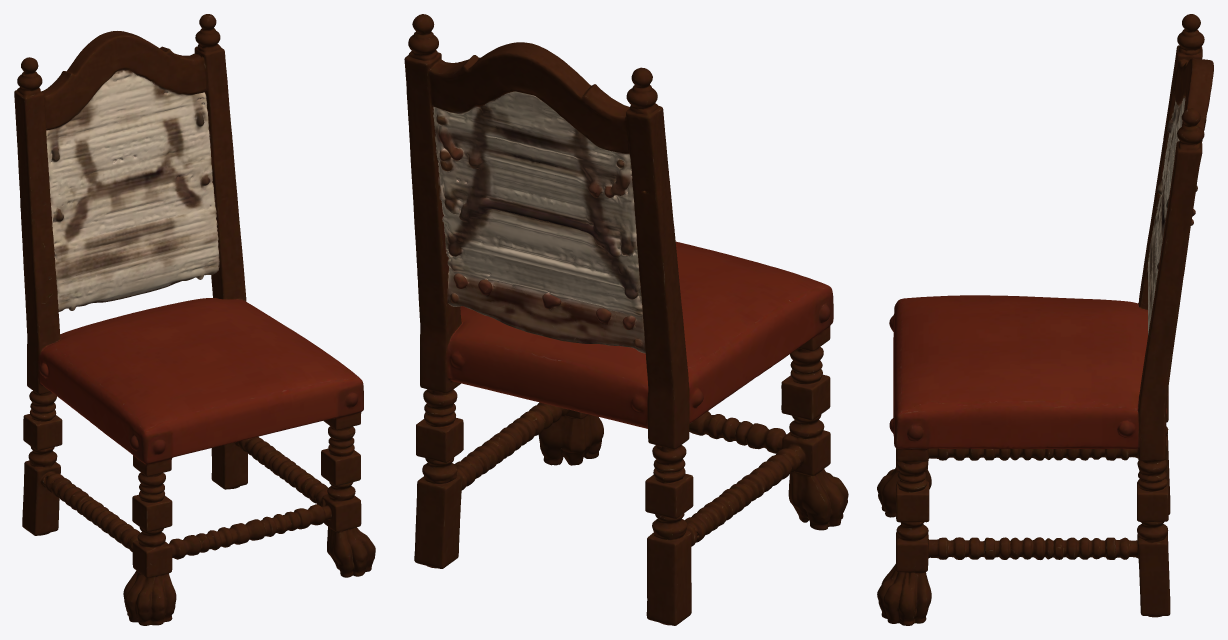
File: shelf-unit.glb
3 renders of one model, left to right at view 1: azimuth 30°, elevation 25°; view 2: azimuth 150°, elevation 25°; view 3: azimuth 270°, elevation 25°, orthographic. The views are drawn at different scales.
Parts seen in each view (by area): view 1: world; view 2: world; view 3: world.
Part boxes in pixels (x1,y1,x2,y2): world: [14, 14, 375, 625]; world: [404, 14, 848, 625]; world: [877, 14, 1213, 625].
Bounding box in the file's own units: 0.5584 × 1 × 0.6117.
1 material, 1 textured.
